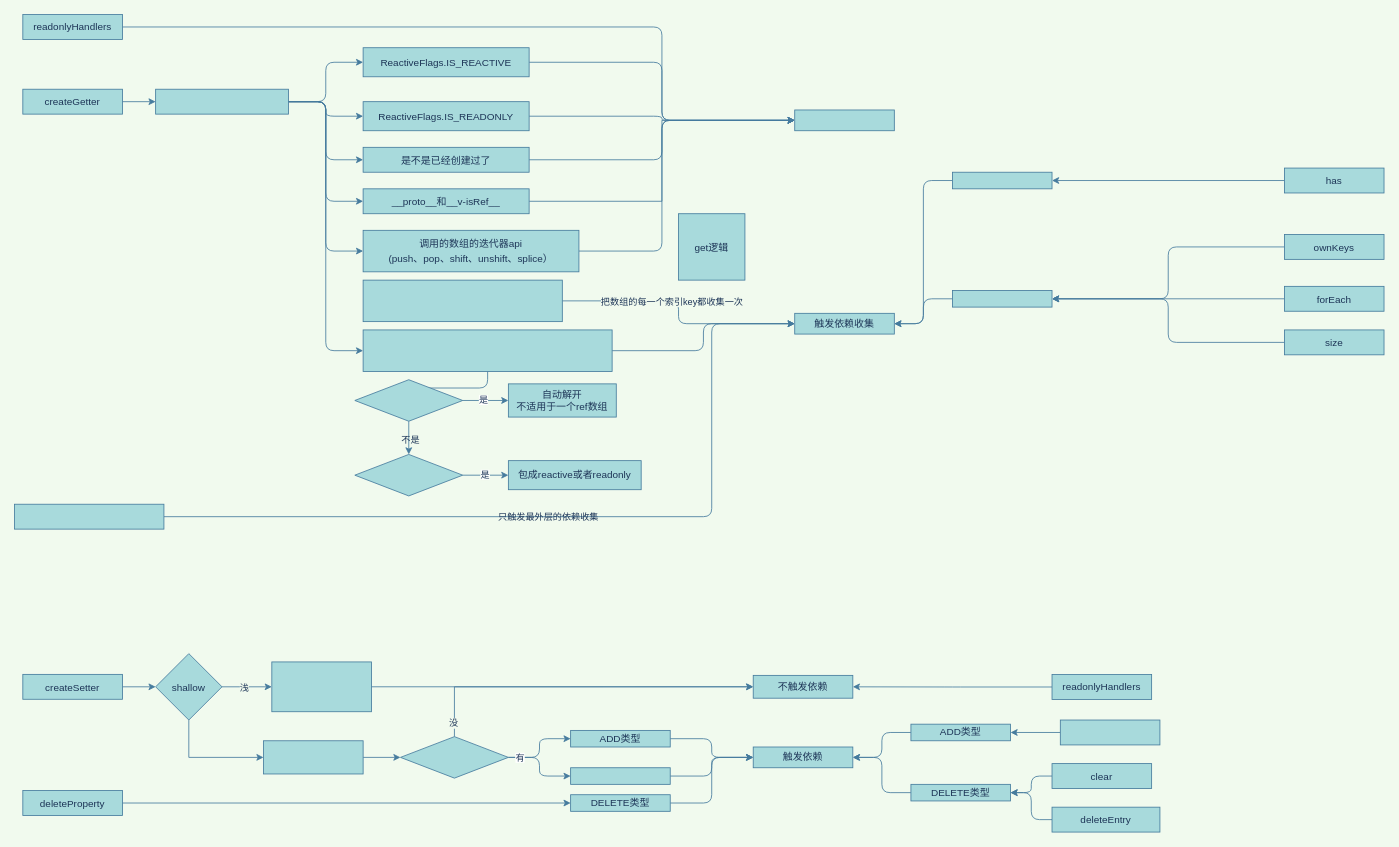
Some shapes in this 1399 by 847 pixel diagram are drawn without their labels. Here are the shapes that lost their labels. From the top down, the box of each, then its label:
(155, 88, 288, 114): 判断取key和target逻辑
(794, 109, 894, 131): 不触发依赖收集
(952, 171, 1052, 189): HAS类型
(362, 279, 562, 322): 调用的数组的会修改length的api (include、indexOf、lastIndexOf）
(952, 290, 1052, 307): ITERATE类型
(362, 329, 612, 371): 在排除上述的情况后不是readOnly的会默认收集一次
(354, 379, 463, 421): 取出的是一个ref
(354, 454, 463, 496): 对象
(14, 503, 164, 529): shallowReactiveHandlers
(271, 661, 371, 712): 如果是ref的话，赋值给ref的value
(1059, 719, 1160, 745): add
(263, 740, 363, 774): set逻辑
(400, 736, 508, 778): 是否修改
(570, 767, 670, 784): SET类型
